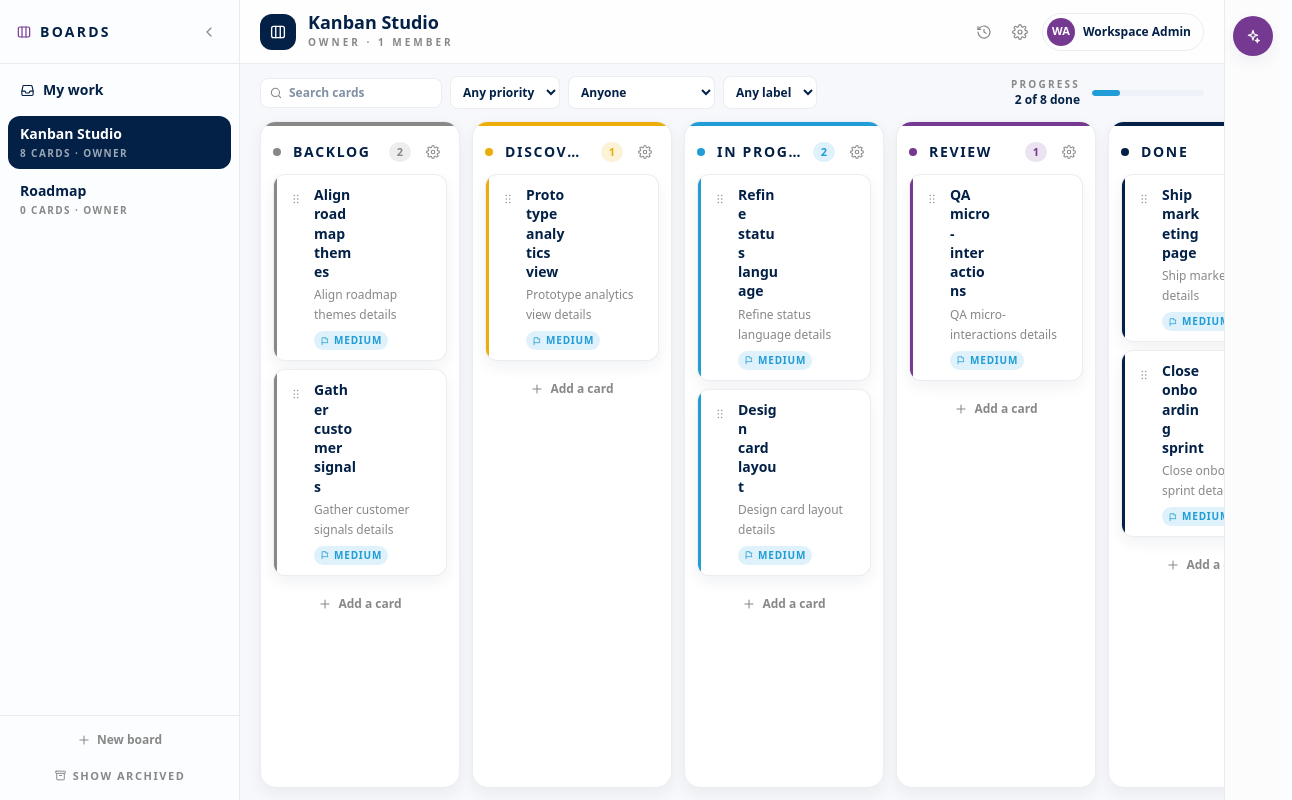
Workspace boards › creates a board from the rail
Click the button "New board" at (120, 740), box [8,724,231,756]
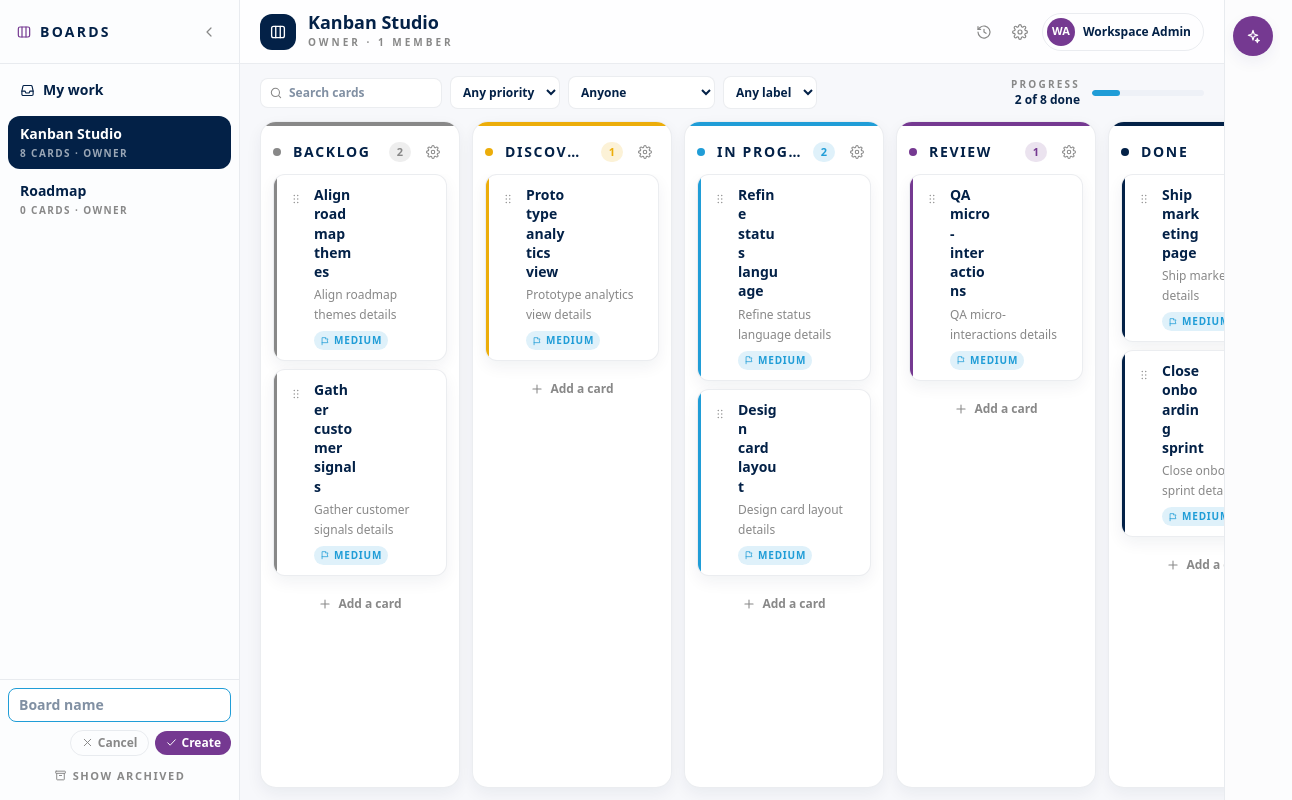
Type "Roadmap" into the field labelled "Board name" at (120, 704), box [8,688,231,722]
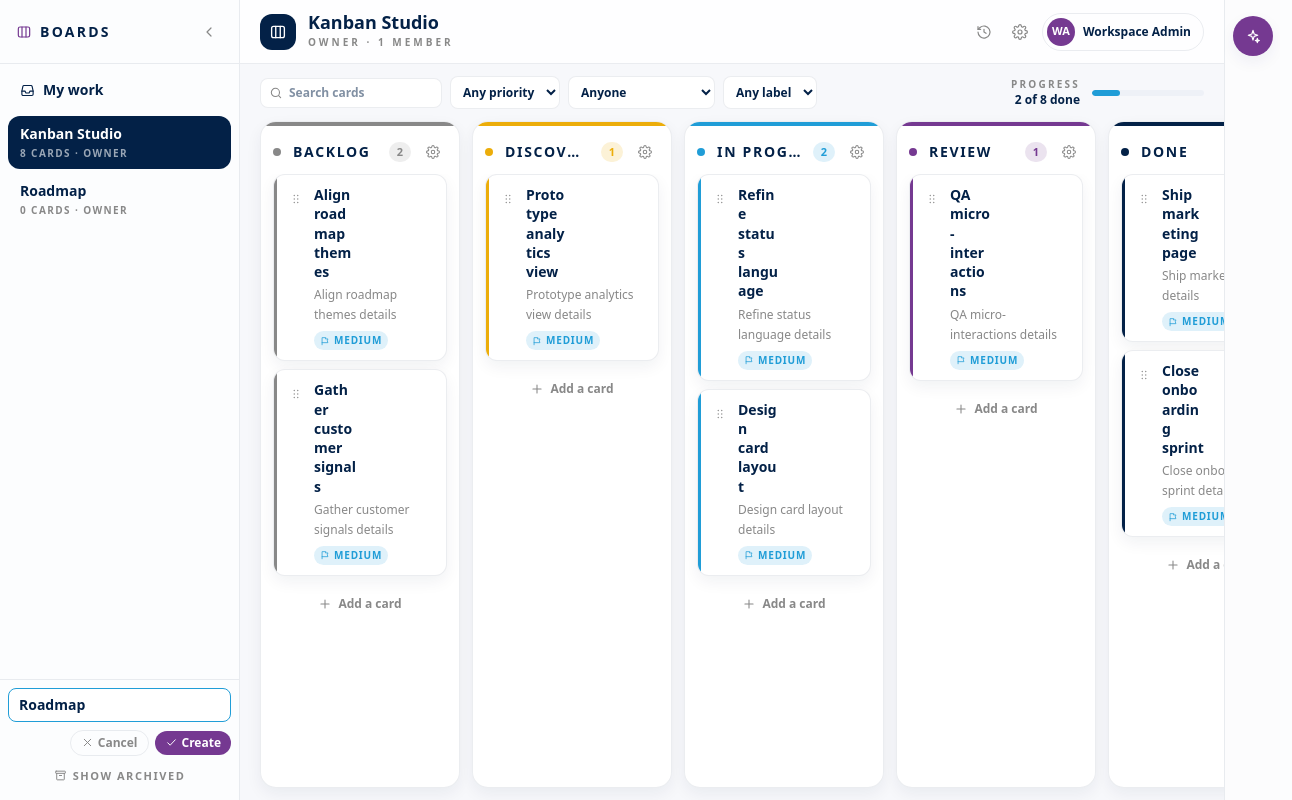
Click the button "Create" at (193, 742), box [154,730,231,754]
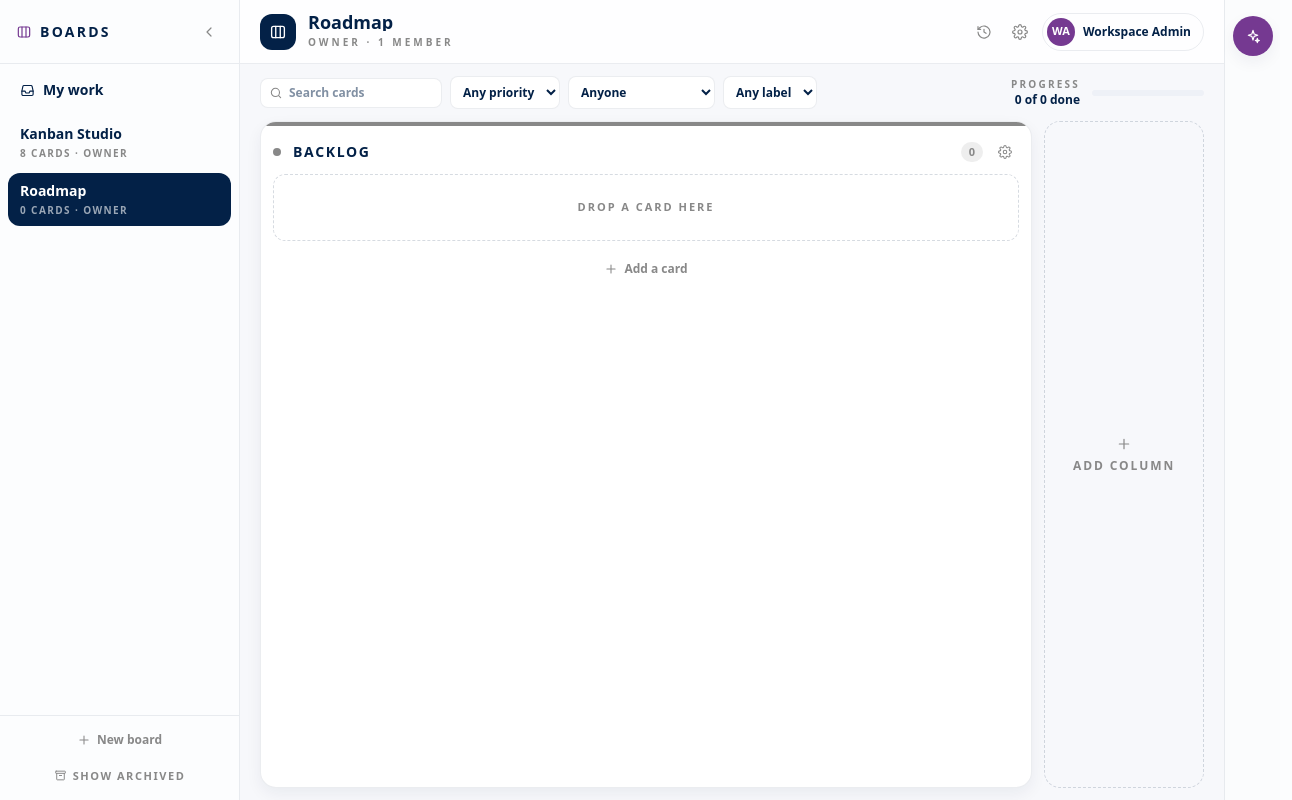
Expected: the heading "Roadmap" is shown, [308,10,393,34]
